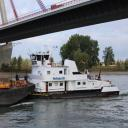tugboat: (15, 45, 122, 104)
